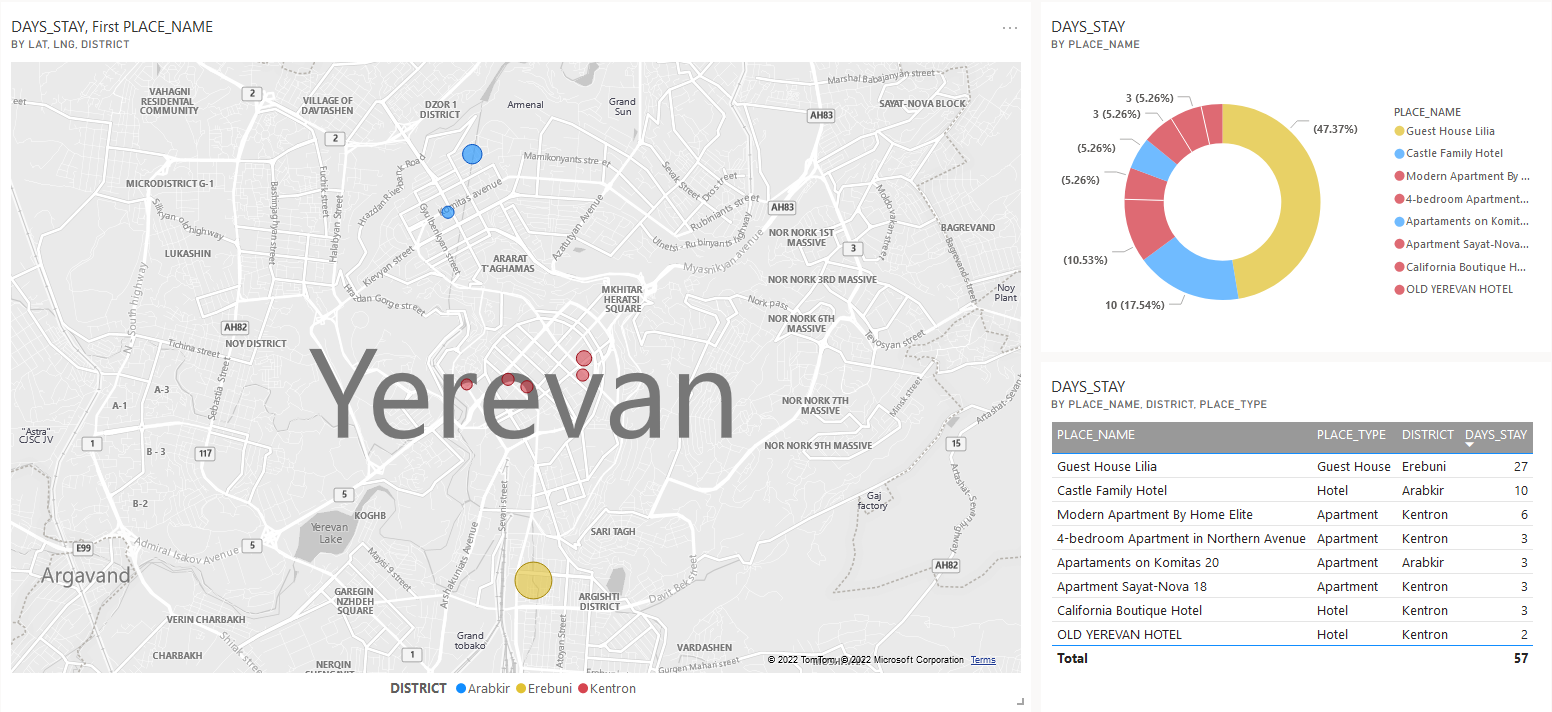

This screenshot's page, from the dashboard's own definition file:
{"tool":"powerbi","page":{"name":"Page 1","canvas":[1280,720],"ordinal":0},"visuals":[{"type":"map","fields":{"Y":["OUR_PLACES_ERV.LAT"],"X":["OUR_PLACES_ERV.LNG"],"Size":["OUR_PLACES_ERV.DAYS_STAY"],"Series":["OUR_PLACES_ERV.REGION"]},"box":[9.8,0,759.9,720],"z":0},{"type":"actionButton","box":[0,0,100,40],"z":1000},{"type":"donutChart","fields":{"Category":["OUR_PLACES_ERV.PLACE_NAME"],"Y":["OUR_PLACES_ERV.DAYS_STAY"]},"box":[769.7,0,510,445.1],"z":2000},{"type":"tableEx","fields":{"Values":["OUR_PLACES_ERV.PLACE_NAME","OUR_PLACES_ERV.PLACE_TYPE","OUR_PLACES_ERV.DISTRICT","OUR_PLACES_ERV.DAYS_STAY"]},"box":[769.7,436.3,510.7,283.7],"z":3000}]}

Visuals, with their boxes on the page's 1280x720 design canvas (x1, y1, x2, y2). These are canvas units, not pixel positions in the 1552x712 screenshot, which may show the page scaled, cropped or inside an application window:
map - OUR_PLACES_ERV.LAT x OUR_PLACES_ERV.LNG: 10, 0, 770, 720
actionButton: 0, 0, 100, 40
donutChart - OUR_PLACES_ERV.PLACE_NAME x OUR_PLACES_ERV.DAYS_STAY: 770, 0, 1280, 445
tableEx - OUR_PLACES_ERV.PLACE_NAME x OUR_PLACES_ERV.PLACE_TYPE: 770, 436, 1280, 720
